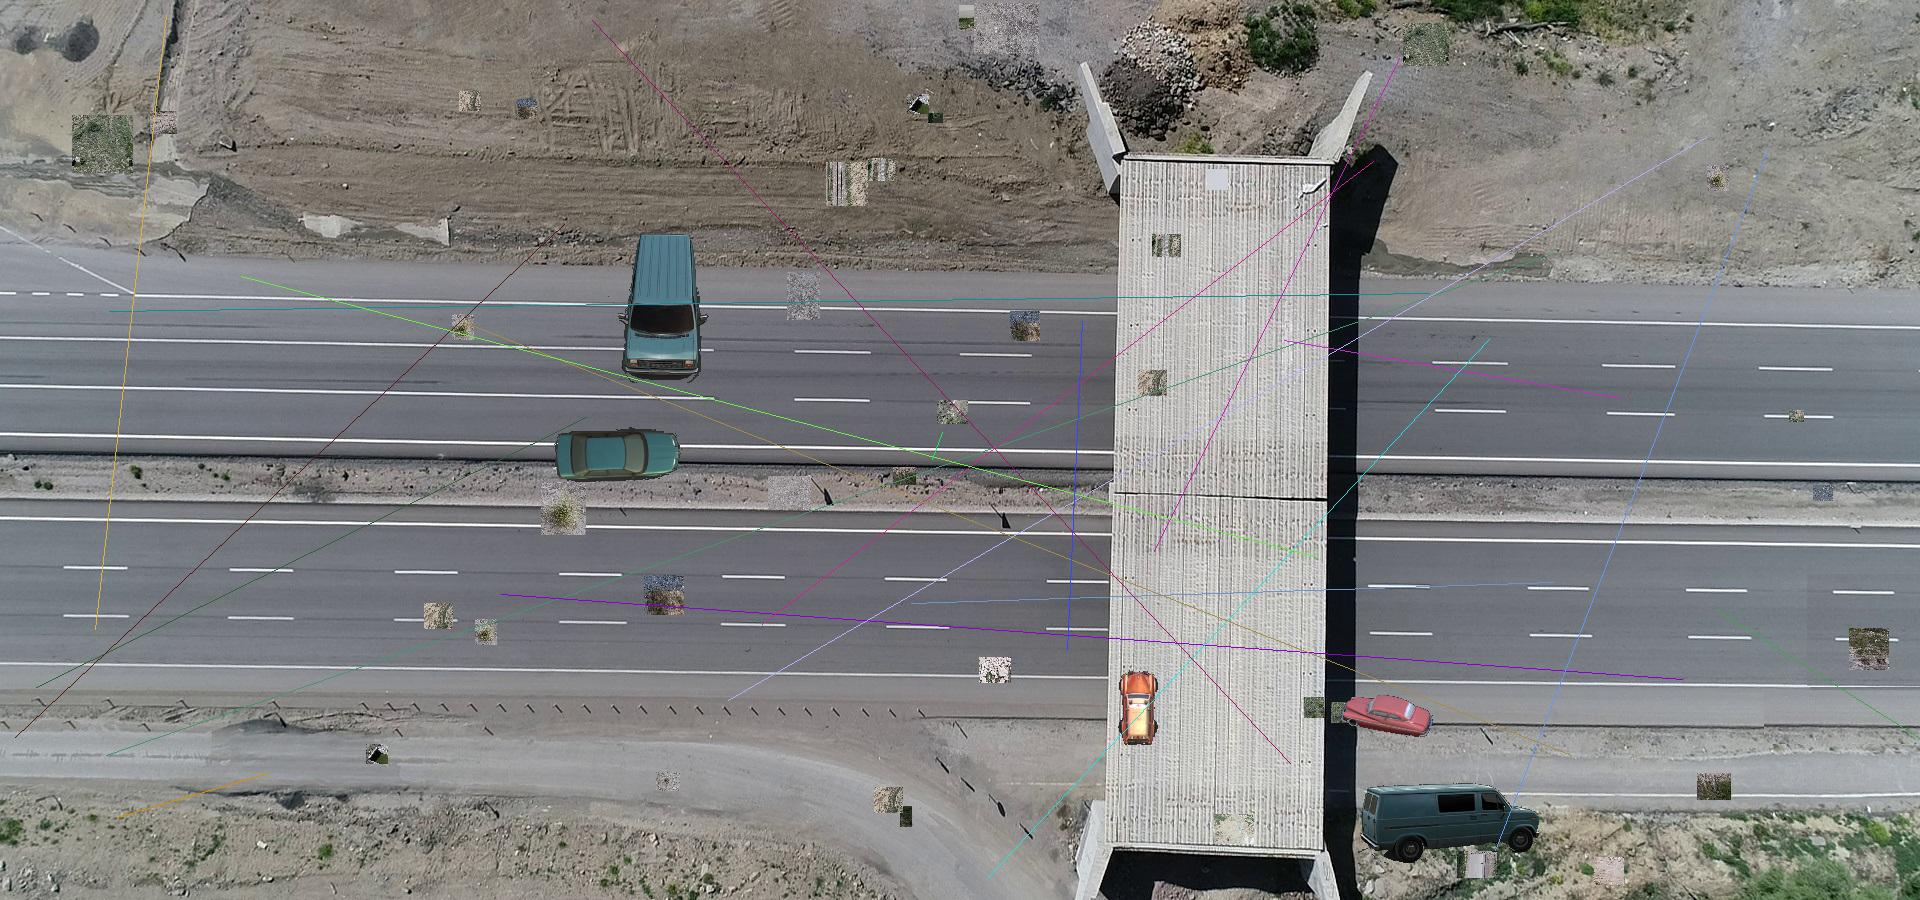arac: (606, 229, 711, 383), (1358, 782, 1540, 864), (553, 427, 681, 484), (1341, 694, 1433, 738), (1118, 670, 1160, 746)
